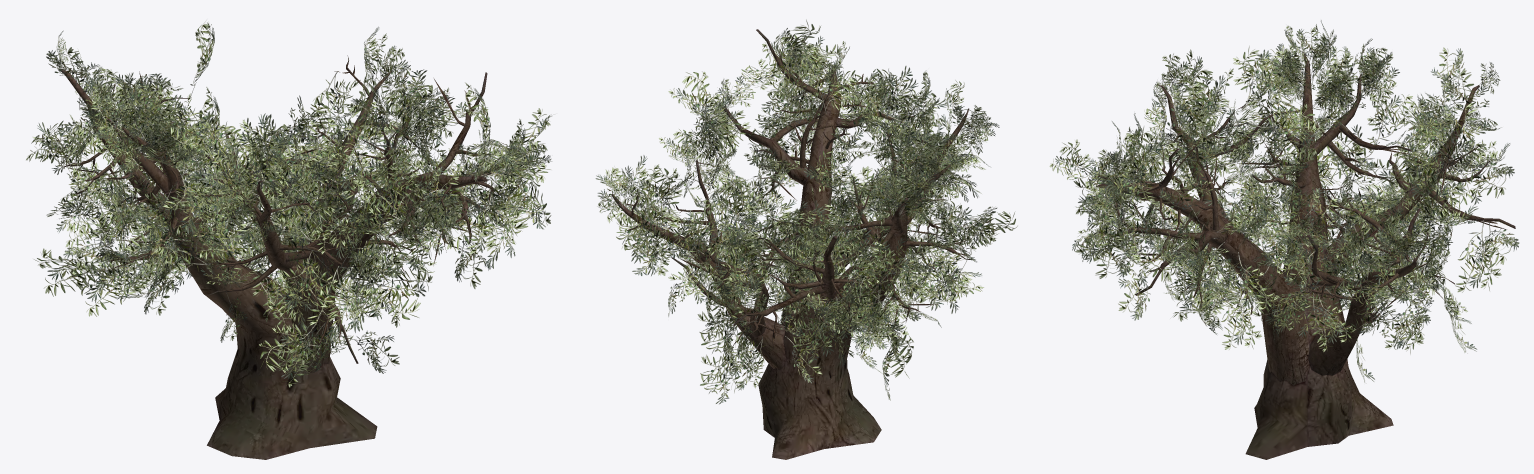
Rendered from olivo.glb.
The picture shows the model from 3 angles, left to right: view 1: azimuth 30°, elevation 25°; view 2: azimuth 150°, elevation 25°; view 3: azimuth 270°, elevation 25°; orthographic projection. The views are drawn at different scales.
Visible parts, largest first — view 1: Object_2, Object_3; view 2: Object_2, Object_3; view 3: Object_2, Object_3.
Boxes of the visible parts, <box> form: Object_2: <box>26,22,551,387</box>; Object_3: <box>60,55,517,459</box>; Object_2: <box>595,20,1017,404</box>; Object_3: <box>611,29,974,459</box>; Object_2: <box>1049,20,1519,382</box>; Object_3: <box>1091,52,1515,459</box>.
Size of the model in its own units: 5.24 by 4.6 by 5.58.
2 materials, 2 textured.
